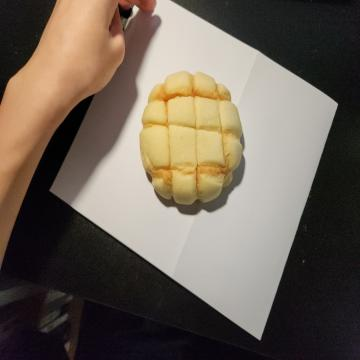melon_bread: (139, 71, 245, 204)
